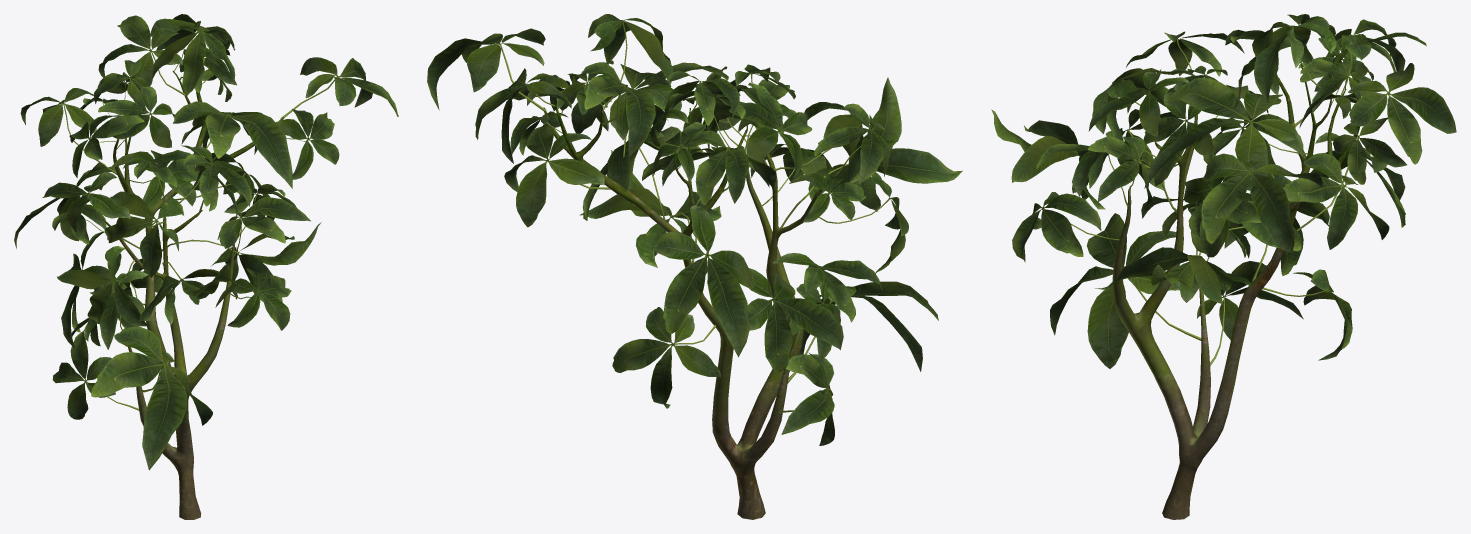
File: pachira_a.glb
The picture shows the model from 3 angles, left to right: view 1: azimuth 30°, elevation 25°; view 2: azimuth 150°, elevation 25°; view 3: azimuth 270°, elevation 25°; orthographic projection. The views are drawn at different scales.
Parts seen in each view (by area): view 1: pachira_aquatica_01_leaves_c, pachira_aquatica_01_bark_c; view 2: pachira_aquatica_01_leaves_c, pachira_aquatica_01_bark_c; view 3: pachira_aquatica_01_leaves_c, pachira_aquatica_01_bark_c.
Boxes of the visible parts, x1,y1,x2,y2 form: pachira_aquatica_01_leaves_c: [14, 14, 398, 470]; pachira_aquatica_01_bark_c: [101, 71, 284, 519]; pachira_aquatica_01_leaves_c: [427, 14, 962, 445]; pachira_aquatica_01_bark_c: [543, 104, 837, 519]; pachira_aquatica_01_leaves_c: [991, 14, 1456, 368]; pachira_aquatica_01_bark_c: [1112, 60, 1359, 519].
Size of the model in its own units: 0.9753 by 1.15 by 0.9237.
2 materials, 2 textured.
